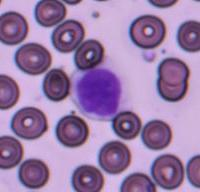L: (68, 64, 130, 120)
